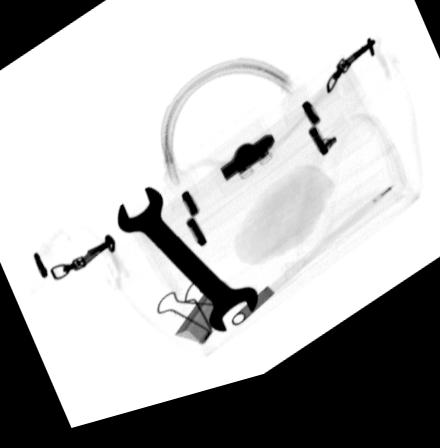Wrench: (113, 194, 258, 345)
